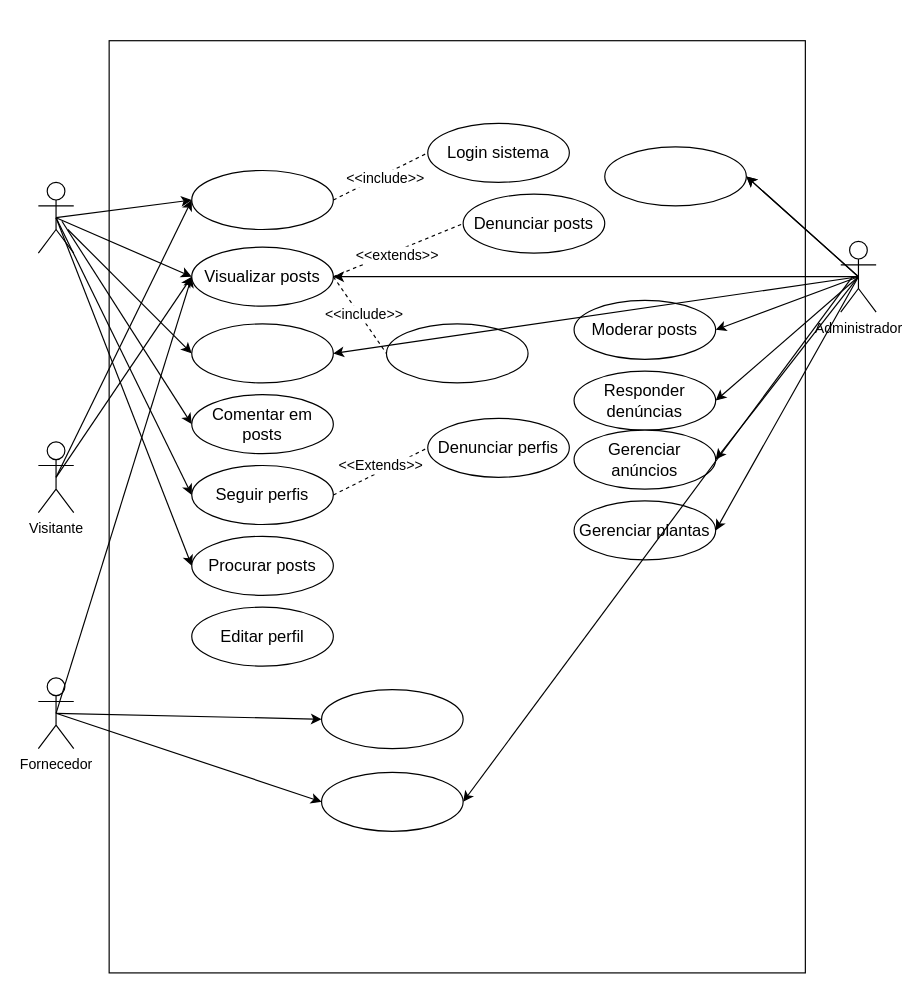
This 923x1003 diagram has some shape labels left out. Each missing label, with the centre of its shape:
"Anunciar produtos" goes at [391,719].
"Criar contas" goes at [262,199].
"Curtir posts" goes at [456,353].
"Publicar" goes at [262,353].
"Remover contas" goes at [675,176].
"Usuário" goes at [55,217].
"Visualizar anúncios" goes at [391,801].
